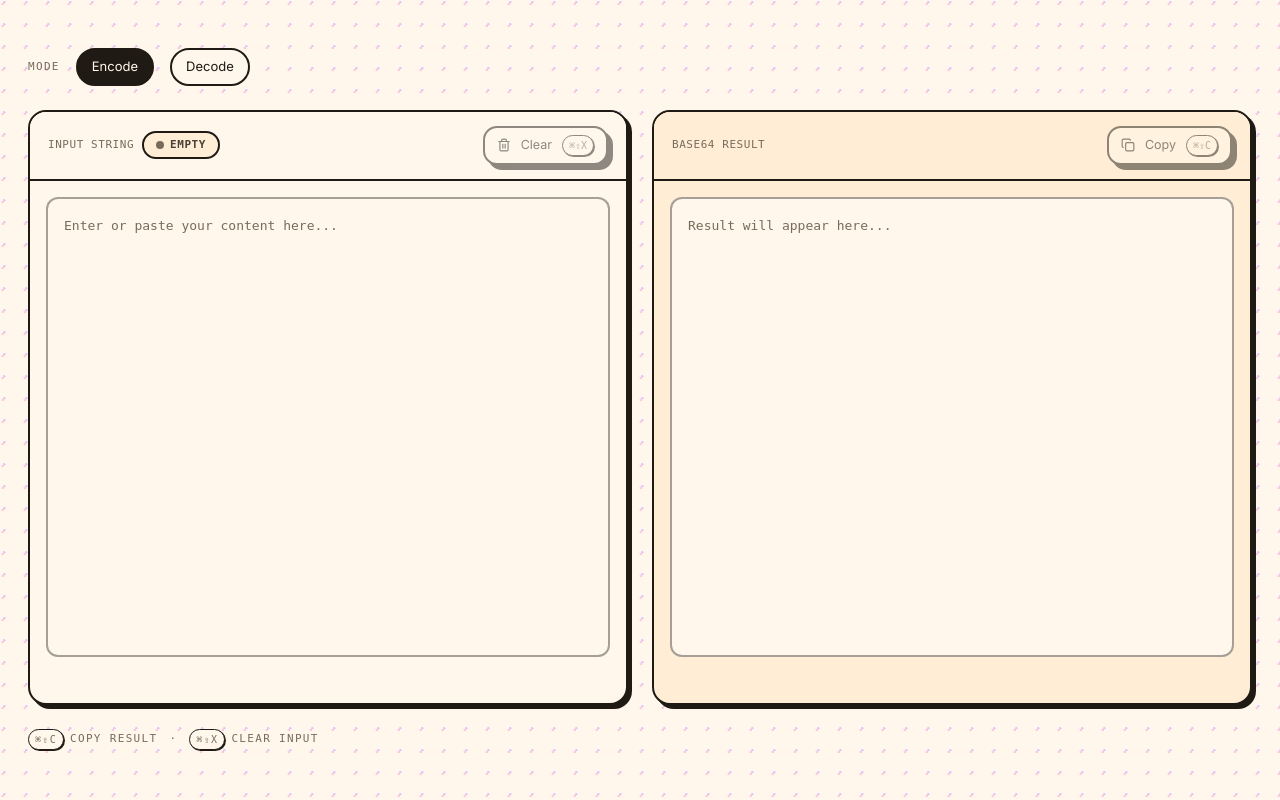
it: Base64EncoderRoute › live-encodes on input change
The image size is (1280, 800).
Type "Hello" into the text box with id "base64-input" at [328, 426], box x1=46 y1=196 x2=610 y2=656
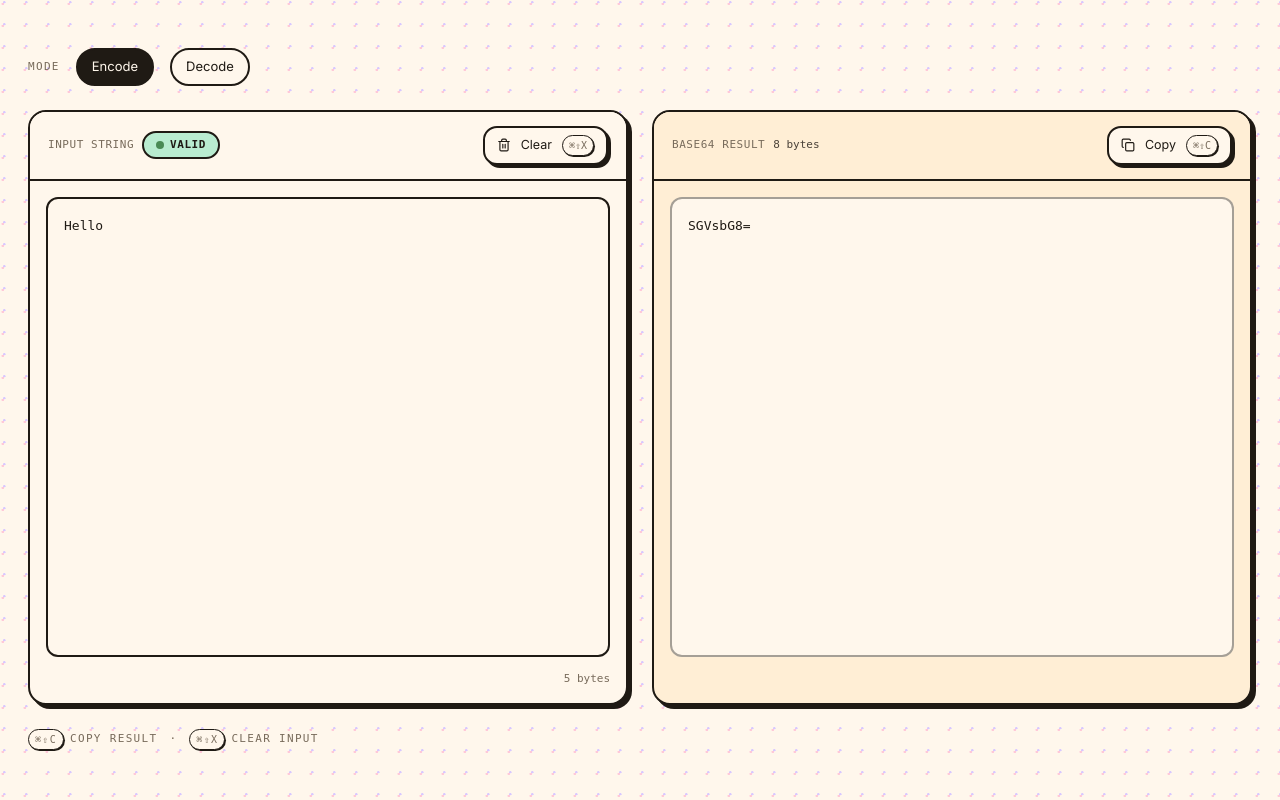
Expected: the text box with id "base64-output" holds "SGVsbG8=", x1=670 y1=196 x2=1234 y2=656
